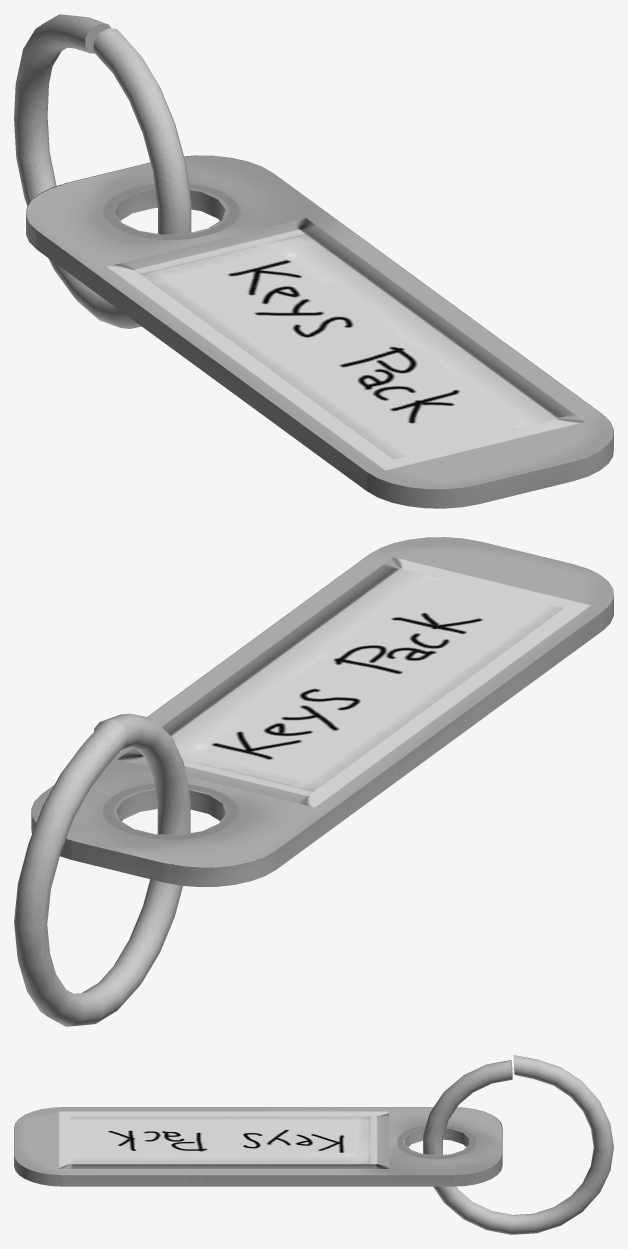
File: Label.FBX
3 views of the same model, one above another, from view 1: azimuth 30°, elevation 25°; view 2: azimuth 150°, elevation 25°; view 3: azimuth 270°, elevation 25° (orthographic). The views are drawn at different scales.
Visible parts, largest first — view 1: Label, ring; view 2: Label, ring; view 3: Label, ring.
Boxes of the visible parts, x1,y1,x2,y2 form: Label: (26,155,613,508); ring: (14,14,191,328); Label: (31,537,613,886); ring: (14,713,190,1026); Label: (14,1107,502,1186); ring: (423,1055,613,1234).
Size of the model in its own units: 13.27 by 16 by 49.34.
